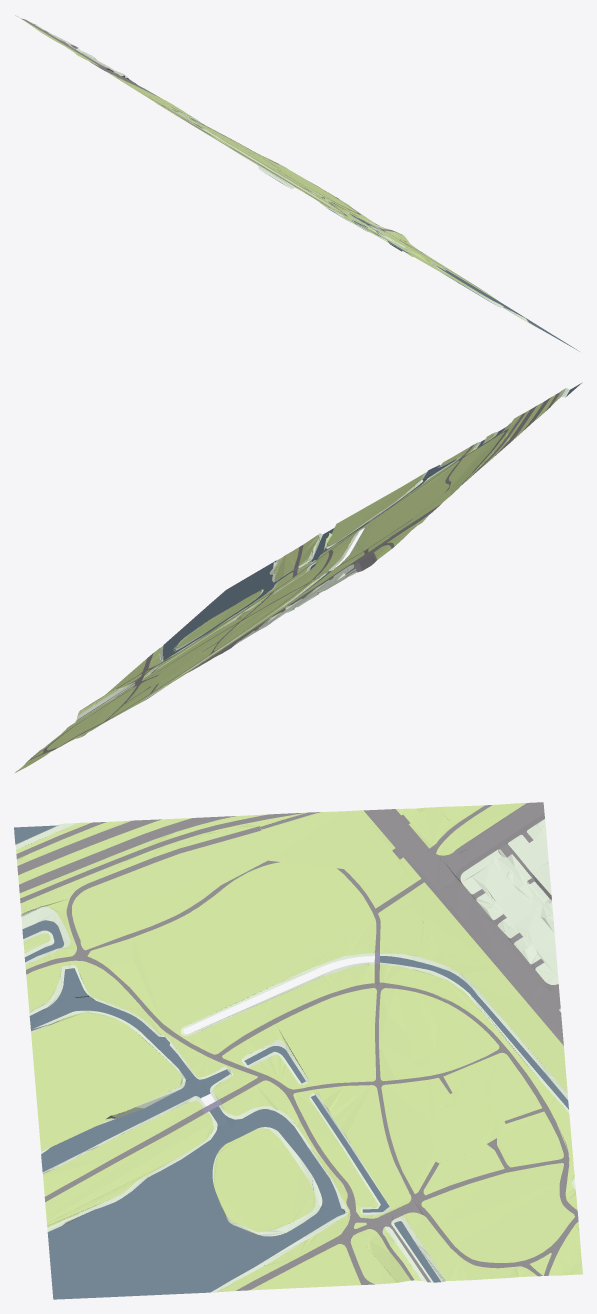
The picture shows the model from 3 angles, top to bottom: view 1: azimuth 30°, elevation 25°; view 2: azimuth 150°, elevation 25°; view 3: azimuth 270°, elevation 25°; orthographic projection. The views are drawn at different scales.
Size of the model in its own units: 217 by 157 by 268.
